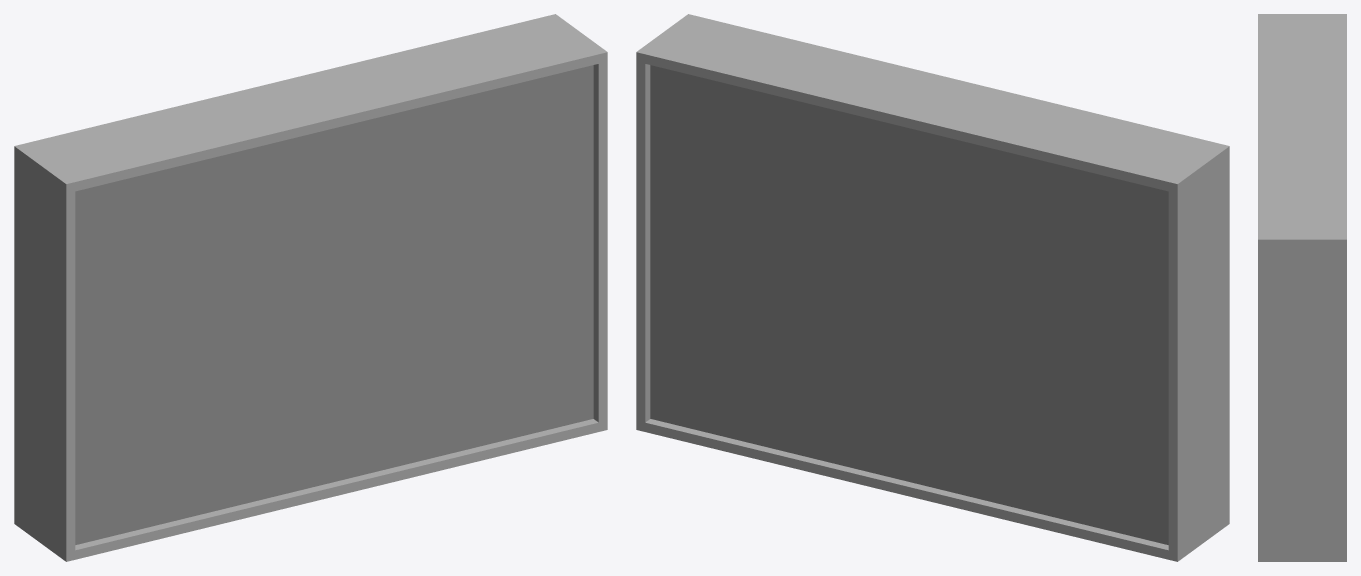
Rendered from Security Wall 2.obj.
3 renders of one model, left to right at view 1: azimuth 30°, elevation 25°; view 2: azimuth 150°, elevation 25°; view 3: azimuth 270°, elevation 25°, orthographic. The views are drawn at different scales.
Bounding box in the file's own units: 60 × 40 × 10.
Materials: 1 (1 with a texture image).
